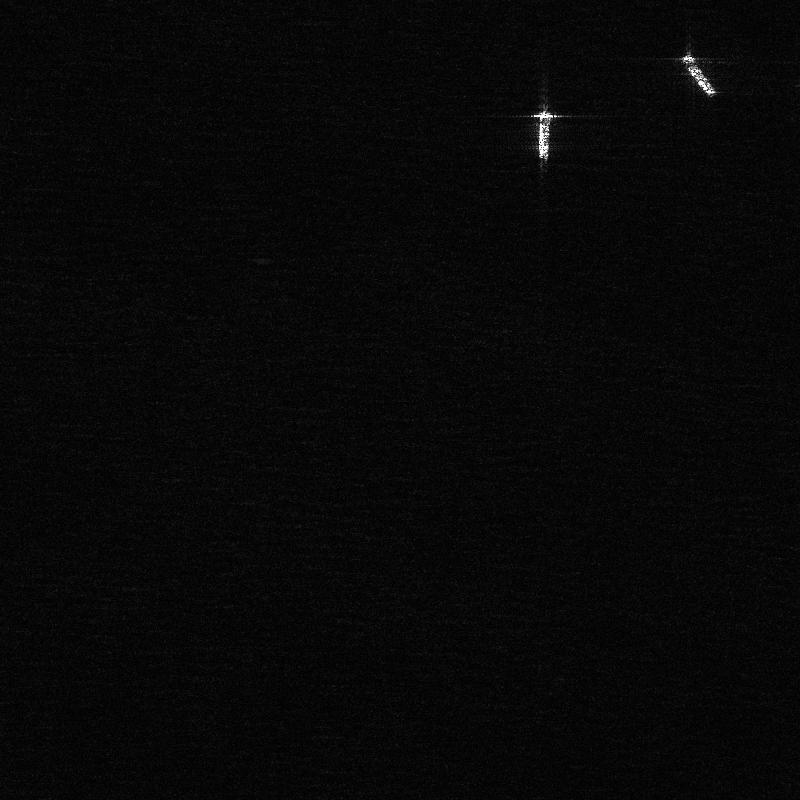ship: (682, 54, 716, 97), (537, 110, 553, 159)
